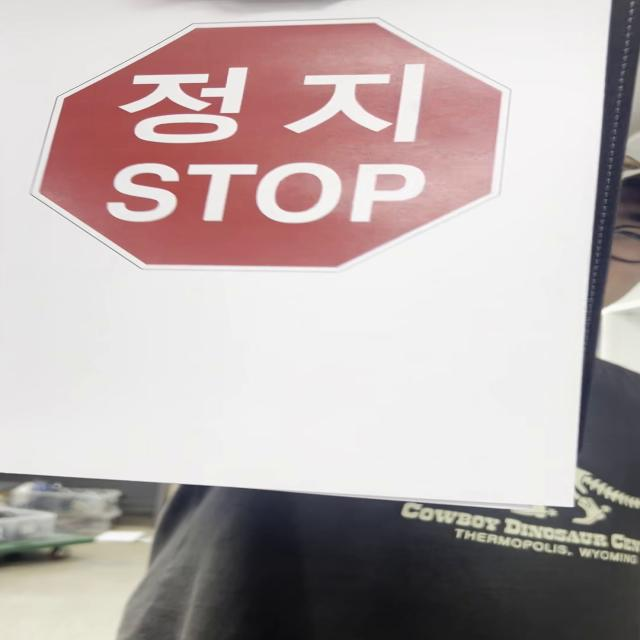stop: (41, 18, 517, 275)
